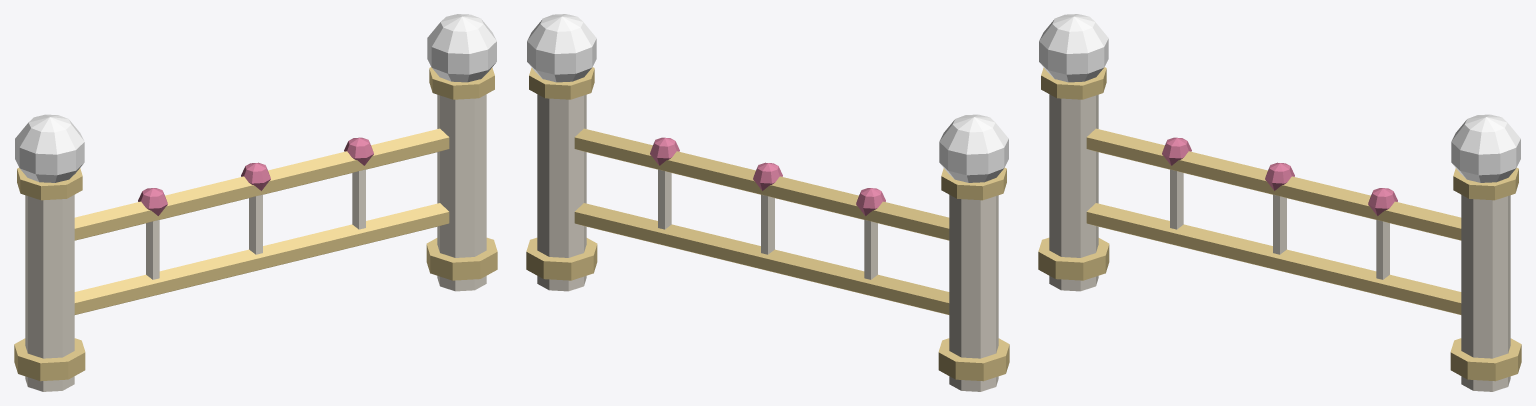
The model's file is valla_tramo.glb.
3 renders of one model, left to right at view 1: azimuth 30°, elevation 25°; view 2: azimuth 150°, elevation 25°; view 3: azimuth 330°, elevation 25°, orthographic.
Visible parts, largest first — view 1: valla_tramo; view 2: valla_tramo; view 3: valla_tramo.
Boxes of the visible parts, x1,y1,x2,y2 form: valla_tramo: (14, 14, 497, 391); valla_tramo: (526, 14, 1009, 391); valla_tramo: (1038, 14, 1521, 391).
Size of the model in its own units: 1.94 by 1.03 by 0.26.
